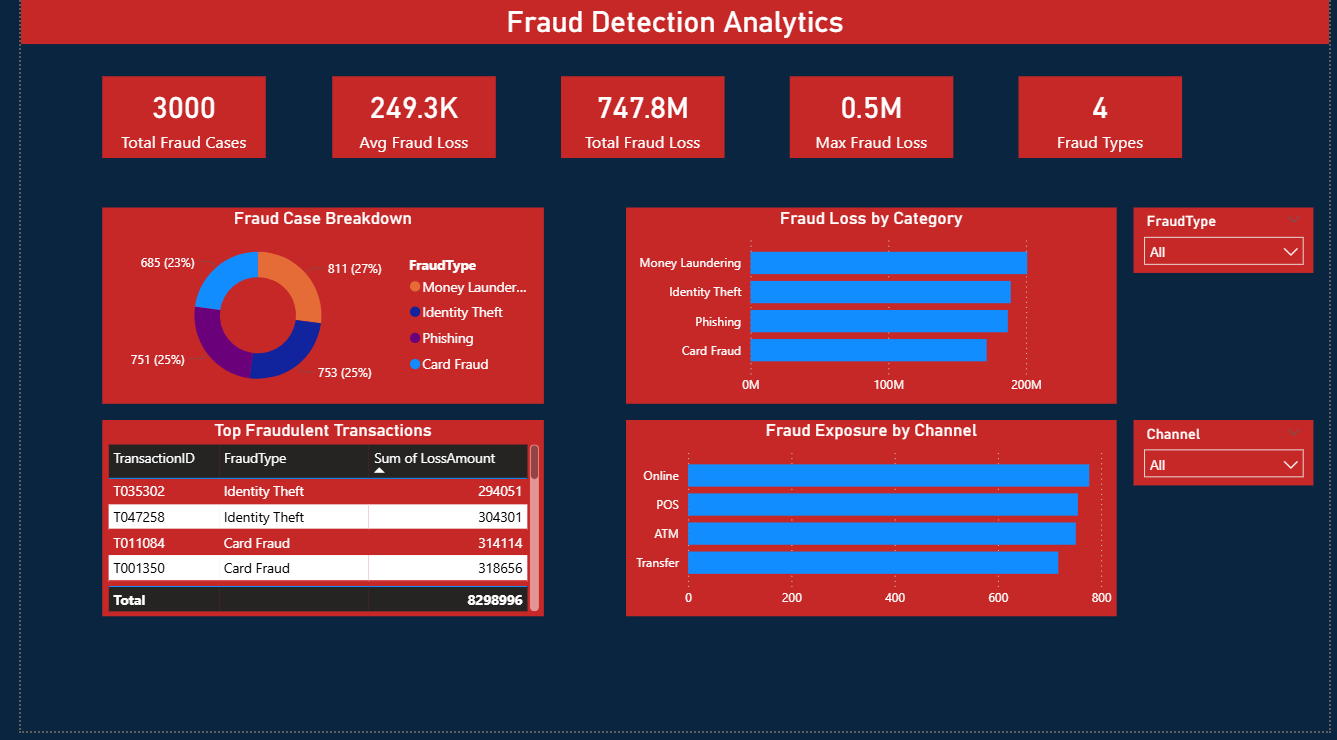

The page's visual inventory and layout, read from the dashboard file:
{"tool":"powerbi","page":{"name":"Fraud Detection Analytics","canvas":[1280,720],"ordinal":1},"visuals":[{"type":"card","fields":{"Values":["FraudCases.Total Fraud Cases"]},"box":[80,80,160,80],"z":0},{"type":"card","fields":{"Values":["FraudCases.Total Fraud Loss"]},"box":[528,80,160,80],"z":1000},{"type":"card","fields":{"Values":["FraudCases.Avg Fraud Loss"]},"box":[304,80,160,80],"z":2000},{"type":"card","fields":{"Values":["FraudCases.Max Fraud Loss"]},"box":[752,80,160,80],"z":3000},{"type":"donutChart","title":"Fraud Case Breakdown","fields":{"Category":["FraudCases.FraudType"],"Y":["CountNonNull(FraudCases.FraudID)"]},"box":[80,208,432,192],"z":4000},{"type":"clusteredBarChart","title":"Fraud Loss by Category","fields":{"Category":["FraudCases.FraudType"],"Y":["FraudCases.Total Fraud Loss"]},"box":[592,208,480,192],"z":5000},{"type":"tableEx","title":"Top Fraudulent Transactions","fields":{"Values":["FraudCases.TransactionID","FraudCases.FraudType","Sum(FraudCases.LossAmount)"]},"box":[80,416,432,192],"z":6000},{"type":"clusteredBarChart","title":"Fraud Exposure by Channel","fields":{"Category":["Transactions.Type"],"Y":["CountNonNull(FraudCases.FraudID)"]},"box":[592,416,480,192],"z":7000},{"type":"slicer","fields":{"Values":["FraudCases.FraudType"]},"box":[1088,208,176,64],"z":8000},{"type":"slicer","fields":{"Values":["Transactions.Channel"]},"box":[1088,416,176,64],"z":9000},{"type":"card","fields":{"Values":["FraudCases.Title 2"]},"box":[0,0,1280,48],"z":10000},{"type":"card","fields":{"Values":["FraudCases.Fraud Types"]},"box":[976,80,160,80],"z":11000}]}

Visuals, with their boxes in screenshot pixels (x1, y1, x2, y2), scaled from the page's 1280x720 canvas onto the 1337x740 screenshot:
card - FraudCases.Total Fraud Cases: [84, 82, 251, 164]
card - FraudCases.Total Fraud Loss: [552, 82, 719, 164]
card - FraudCases.Avg Fraud Loss: [318, 82, 485, 164]
card - FraudCases.Max Fraud Loss: [785, 82, 953, 164]
"Fraud Case Breakdown" donutChart: [84, 214, 535, 411]
"Fraud Loss by Category" clusteredBarChart: [618, 214, 1120, 411]
"Top Fraudulent Transactions" tableEx: [84, 428, 535, 625]
"Fraud Exposure by Channel" clusteredBarChart: [618, 428, 1120, 625]
slicer - FraudCases.FraudType: [1136, 214, 1320, 280]
slicer - Transactions.Channel: [1136, 428, 1320, 493]
card - FraudCases.Title 2: [0, 0, 1336, 49]
card - FraudCases.Fraud Types: [1019, 82, 1187, 164]
